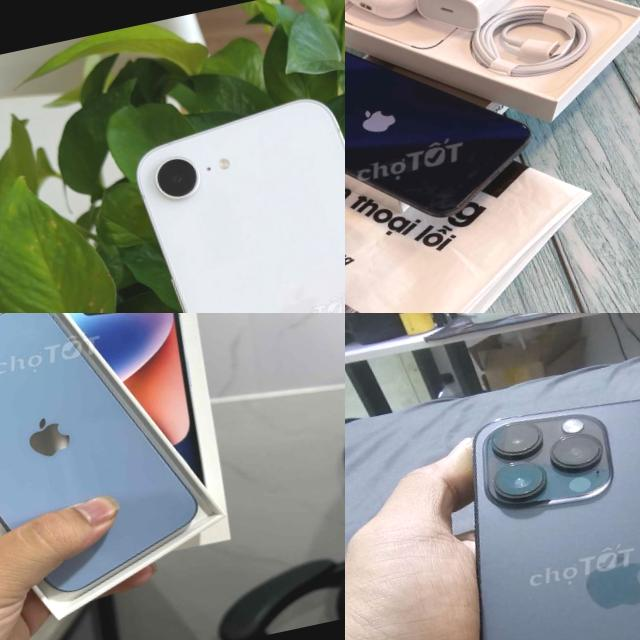gen_12_13: (345, 7, 545, 259)
gen_14: (397, 361, 640, 640), (0, 313, 209, 620)
gen_16: (137, 100, 345, 313)
